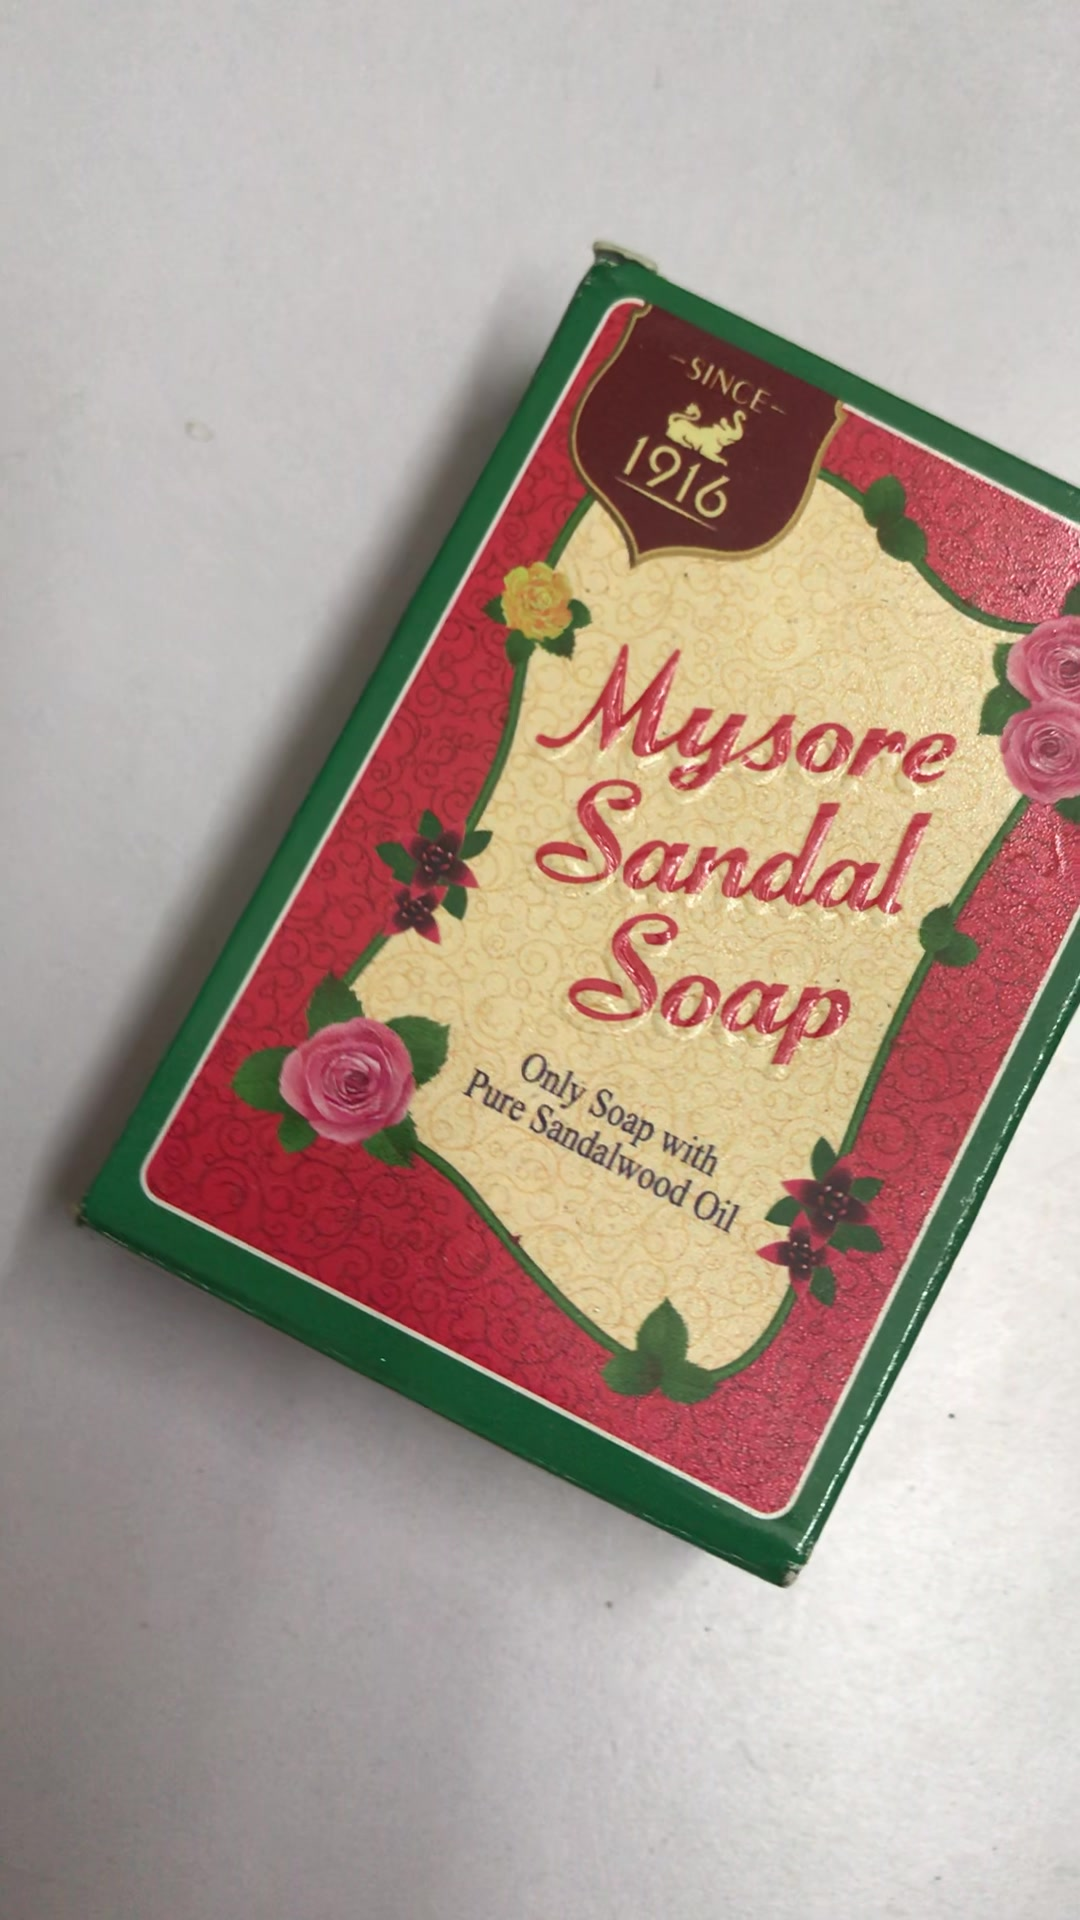mysore sandal soap: (82, 251, 1080, 1585)
